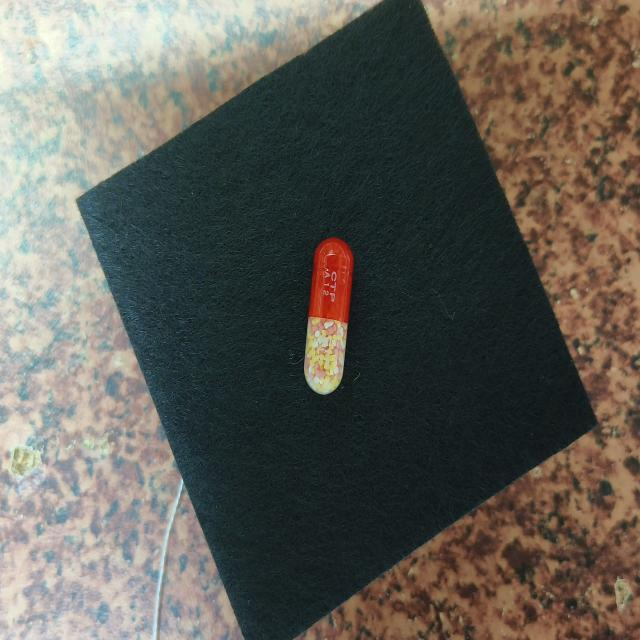Intact Capsule: (304, 237, 354, 394)
